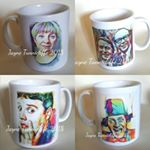cups: (1, 1, 72, 73), (6, 77, 74, 150), (76, 78, 144, 147), (88, 5, 149, 72)
